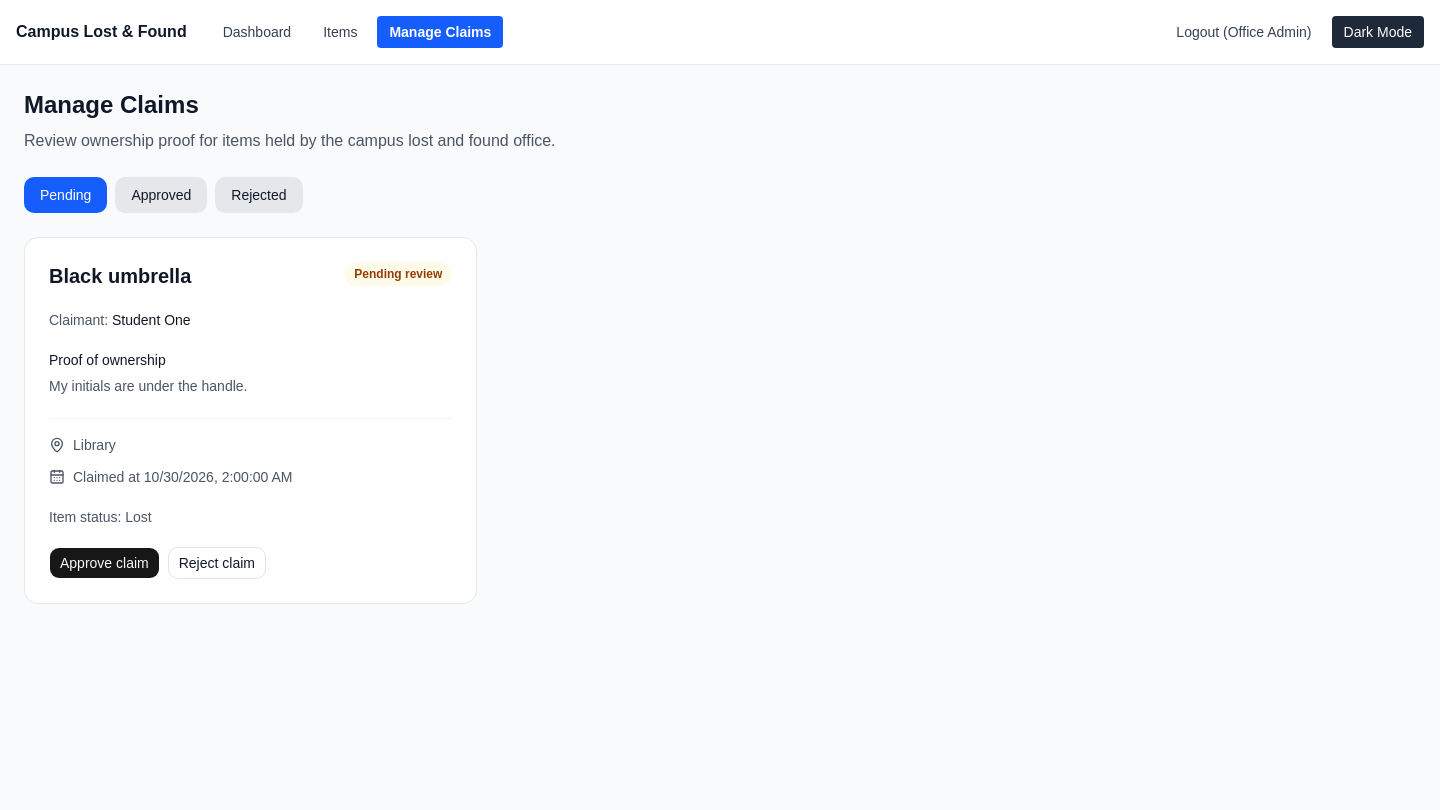
Scenario: admin pages › refreshes a stale decision without offering to overwrite it
Click the button "Reject claim" at (217, 563), box top-left (168, 547), bottom-right (266, 579)
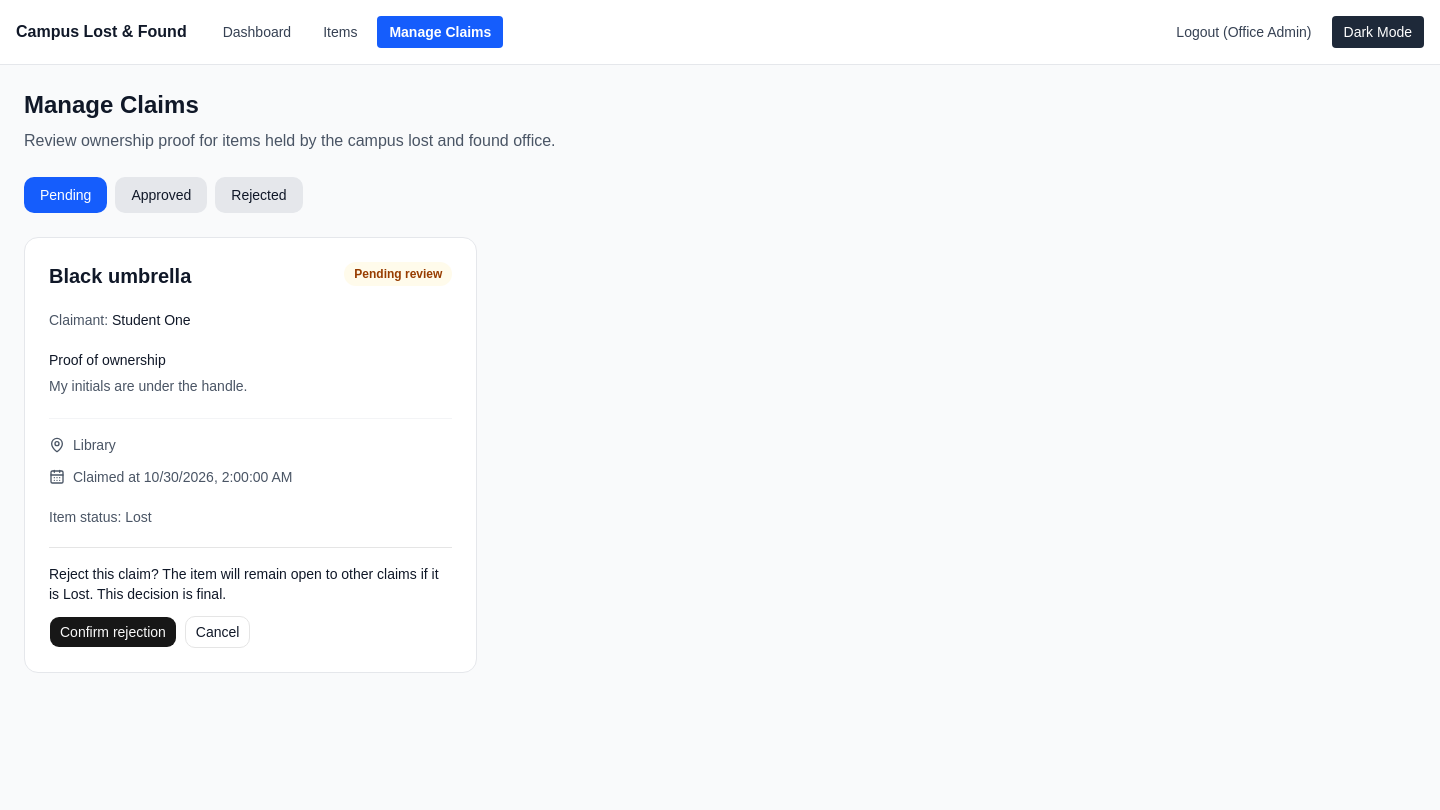
Click the button "Confirm rejection" at (113, 632), box top-left (49, 616), bottom-right (177, 648)
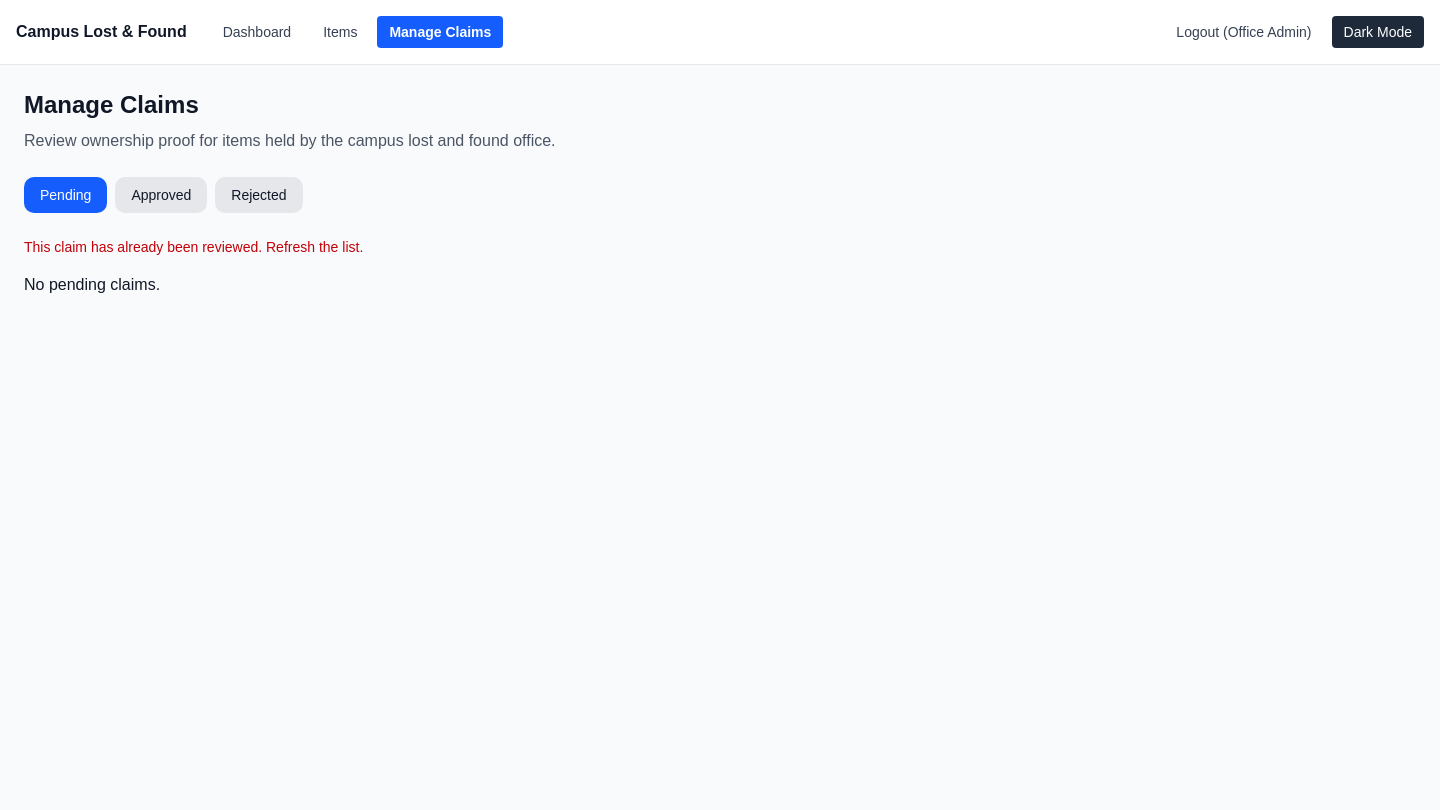
Now the text "This claim has already been reviewed. Refresh the list." is shown, box top-left (24, 239), bottom-right (363, 255)
Now the text "No pending claims." is shown, box top-left (24, 276), bottom-right (160, 293)
Now the button "Confirm rejection" is gone
